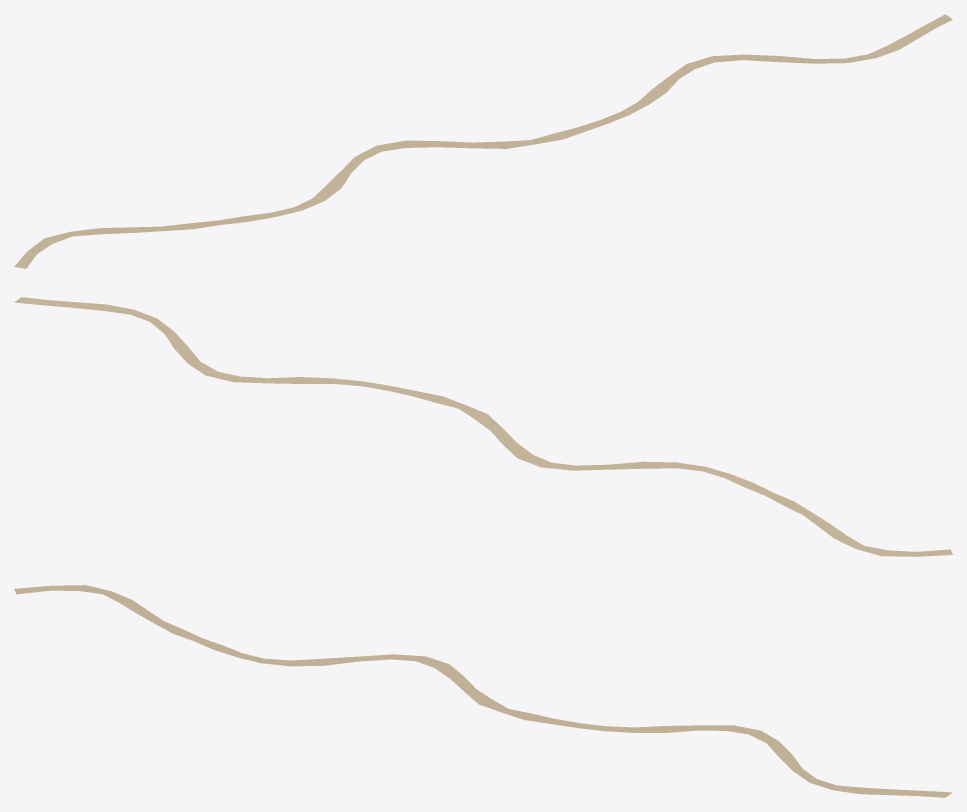
File: lqv_lowpoly_trail.glb
The picture shows the model from 3 angles, top to bottom: view 1: azimuth 30°, elevation 25°; view 2: azimuth 150°, elevation 25°; view 3: azimuth 330°, elevation 25°; orthographic projection.
Visible parts, largest first — view 1: Trail; view 2: Trail; view 3: Trail.
Boxes of the visible parts, left/top/right/bottom form: Trail: left=14, top=14, right=952, bottom=268; Trail: left=14, top=297, right=952, bottom=556; Trail: left=14, top=585, right=952, bottom=797.
Bounding box in the file's own units: 60.24 × 1.5 × 5.3.
